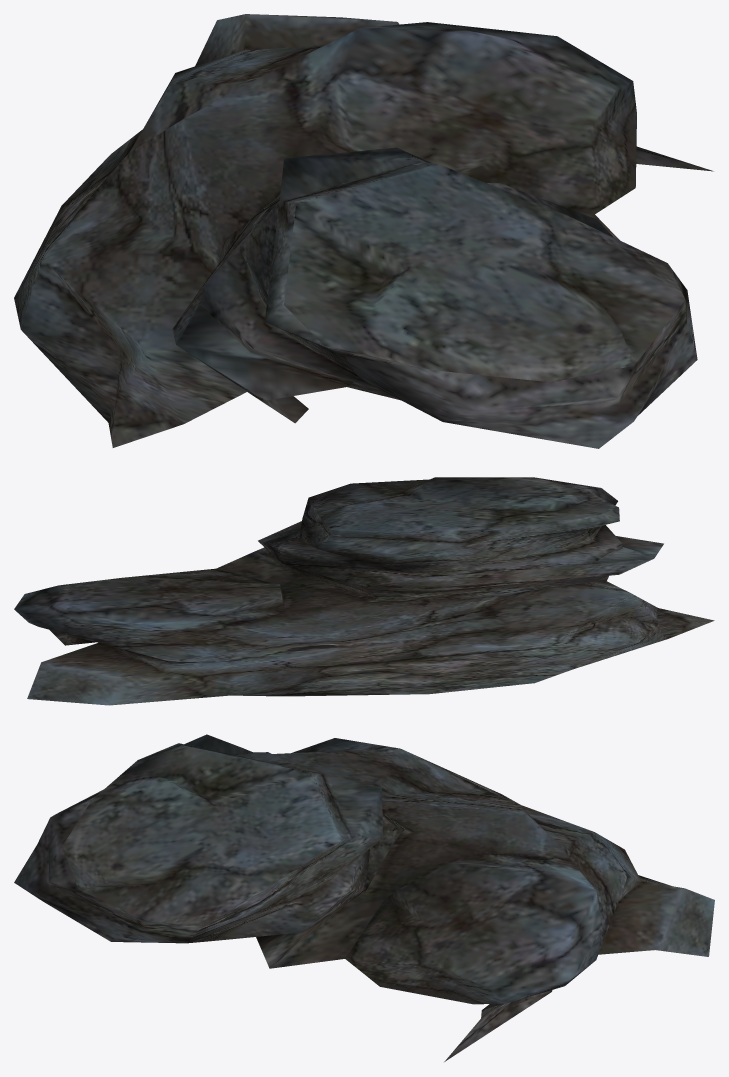
Rendered from S_Rock_Yellow034_H23.FBX.
3 renders of one model, top to bottom at view 1: azimuth 30°, elevation 25°; view 2: azimuth 150°, elevation 25°; view 3: azimuth 270°, elevation 25°, orthographic. The views are drawn at different scales.
Visible parts, largest first — view 1: S_Rock_Yellow034_H23; view 2: S_Rock_Yellow034_H23; view 3: S_Rock_Yellow034_H23.
Part boxes in pixels (x1,y1,x2,y2): S_Rock_Yellow034_H23: (14,14,713,448); S_Rock_Yellow034_H23: (14,477,714,705); S_Rock_Yellow034_H23: (14,734,714,1061).
Size of the model in its own units: 1443 by 1600 by 288.
1 material, 1 textured.
